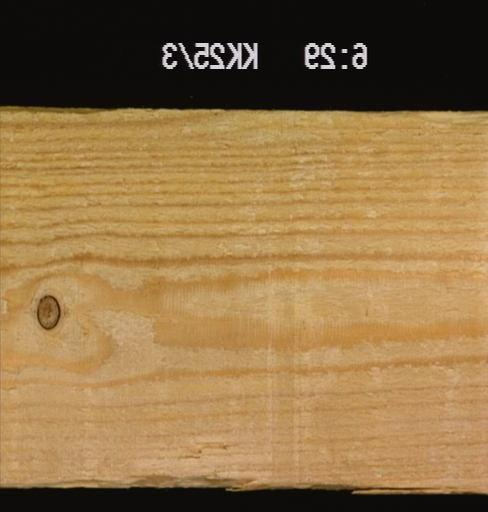dry_knot: (34, 292, 62, 330)
wave: (37, 462, 262, 491)
